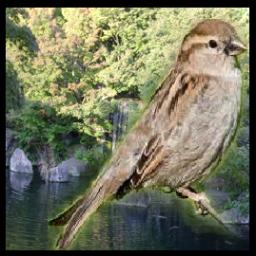Sparrow: (48, 19, 247, 250)
